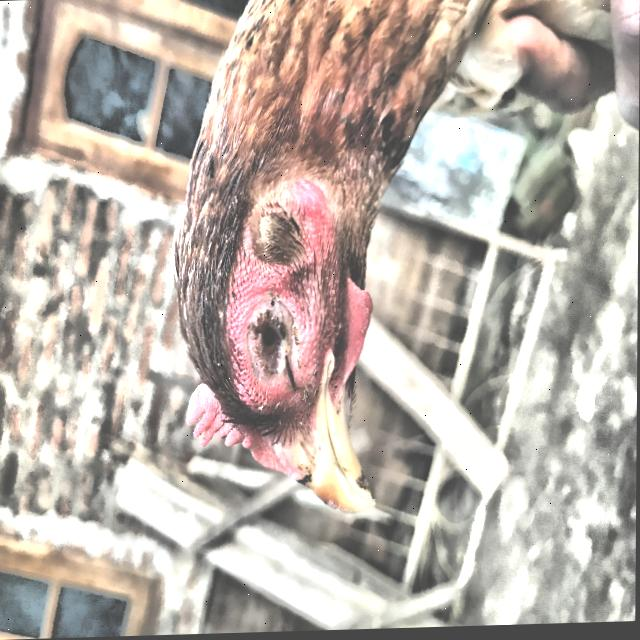Coryza: (136, 0, 640, 525)
